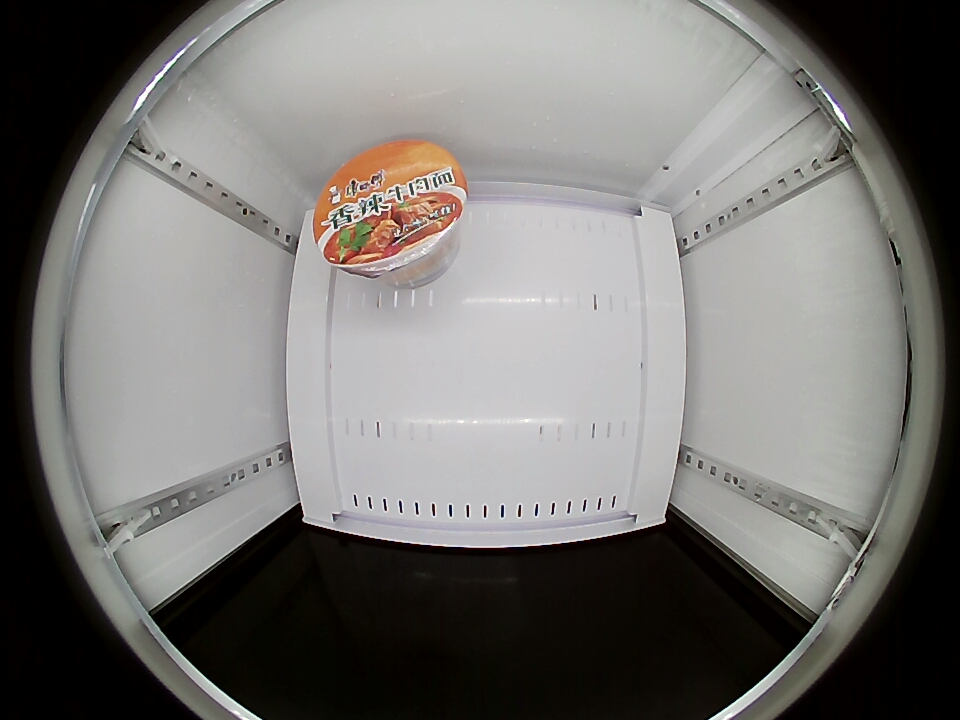xianglaniurou: (313, 141, 467, 277)
